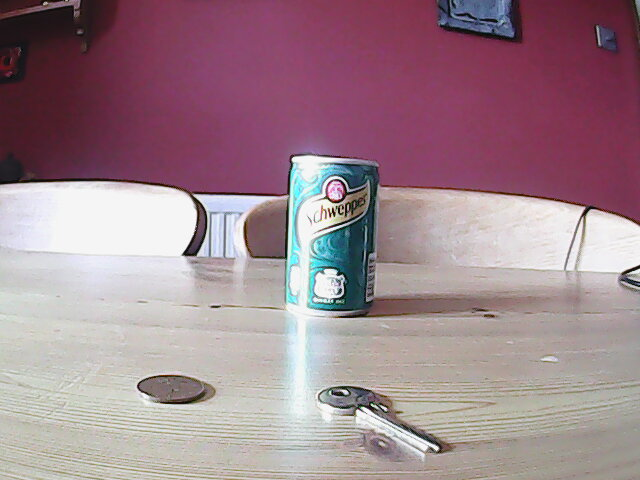Can: (278, 150, 381, 321)
Coin: (135, 373, 208, 407)
Key: (312, 384, 444, 458)
